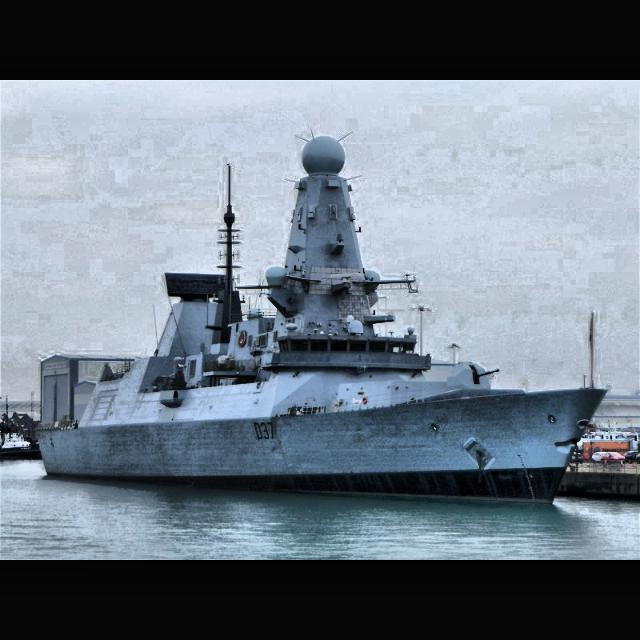combat_vessel: (33, 128, 609, 512)
